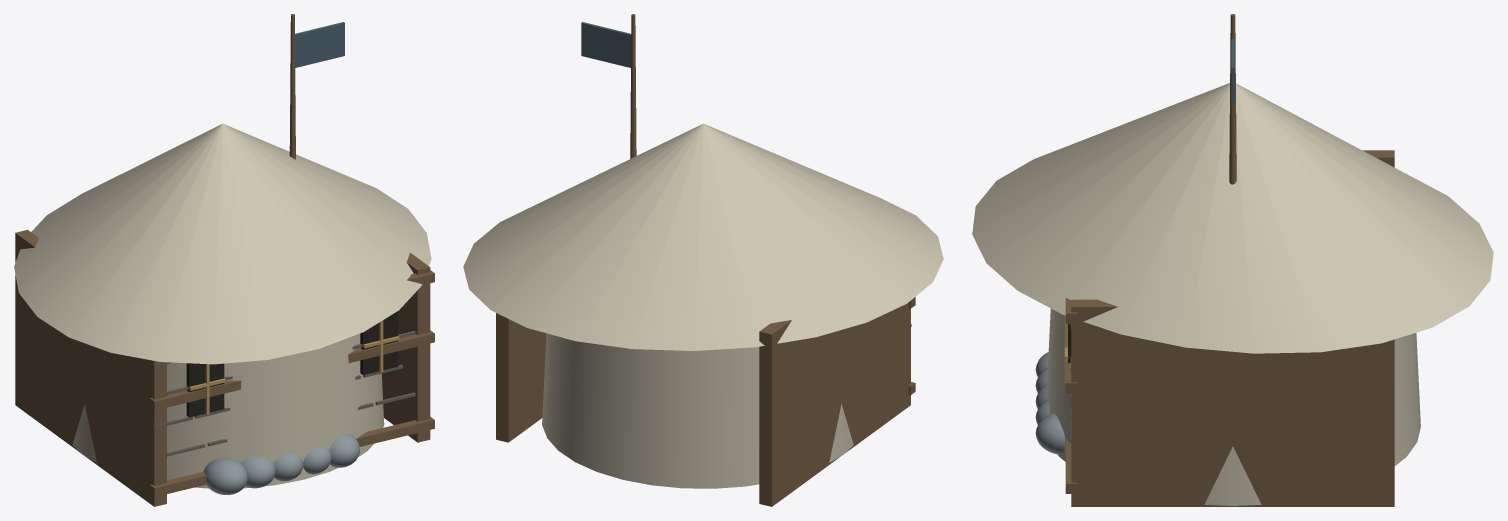
The model's file is b-mine-steppe.glb.
3 renders of one model, left to right at view 1: azimuth 30°, elevation 25°; view 2: azimuth 150°, elevation 25°; view 3: azimuth 270°, elevation 25°, orthographic. The views are drawn at different scales.
Parts seen in each view (by area): view 1: Structure; view 2: Structure; view 3: Structure.
Boxes of the visible parts, x1=… form: Structure: x1=14, y1=14, x2=434, y2=506; Structure: x1=463, y1=14, x2=943, y2=506; Structure: x1=972, y1=14, x2=1493, y2=506.
Size of the model in its own units: 5.55 by 5.33 by 5.55.
